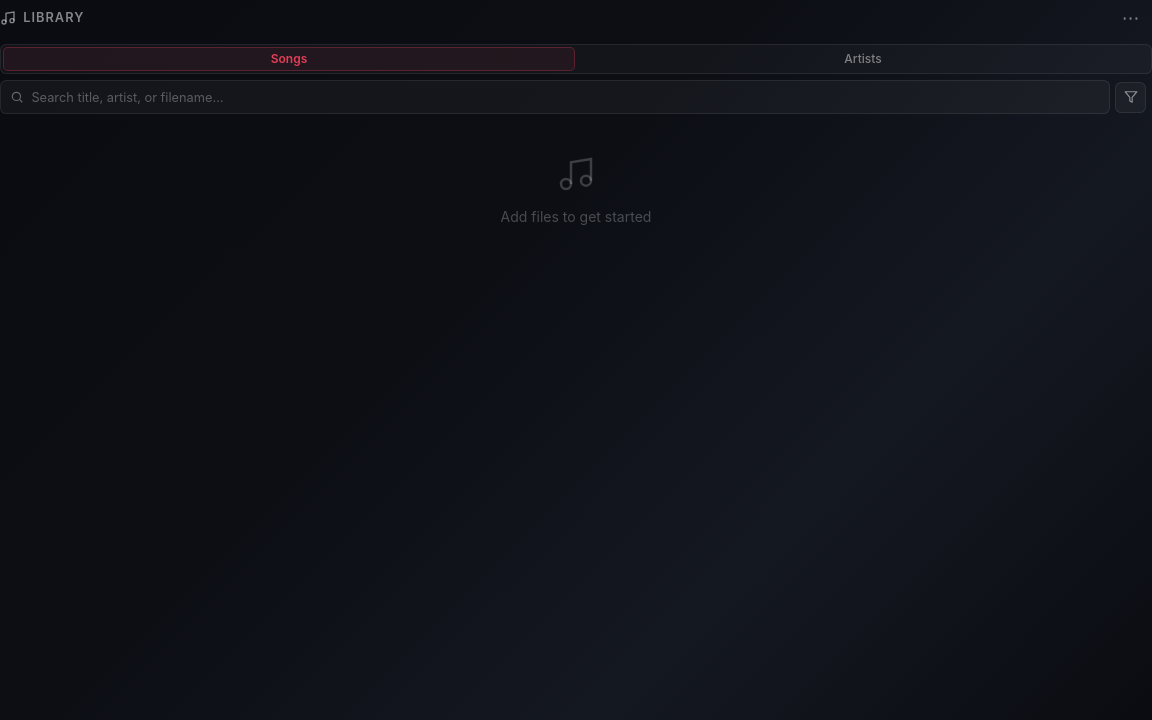
Test: the library ⋯ menu › Columns… swaps to the chooser and focuses its first changeable box
The width and height of the screenshot is (1152, 720).
Click the button with class "lib-menu__btn": (1131, 18) left=1116, top=3, right=1146, bottom=33
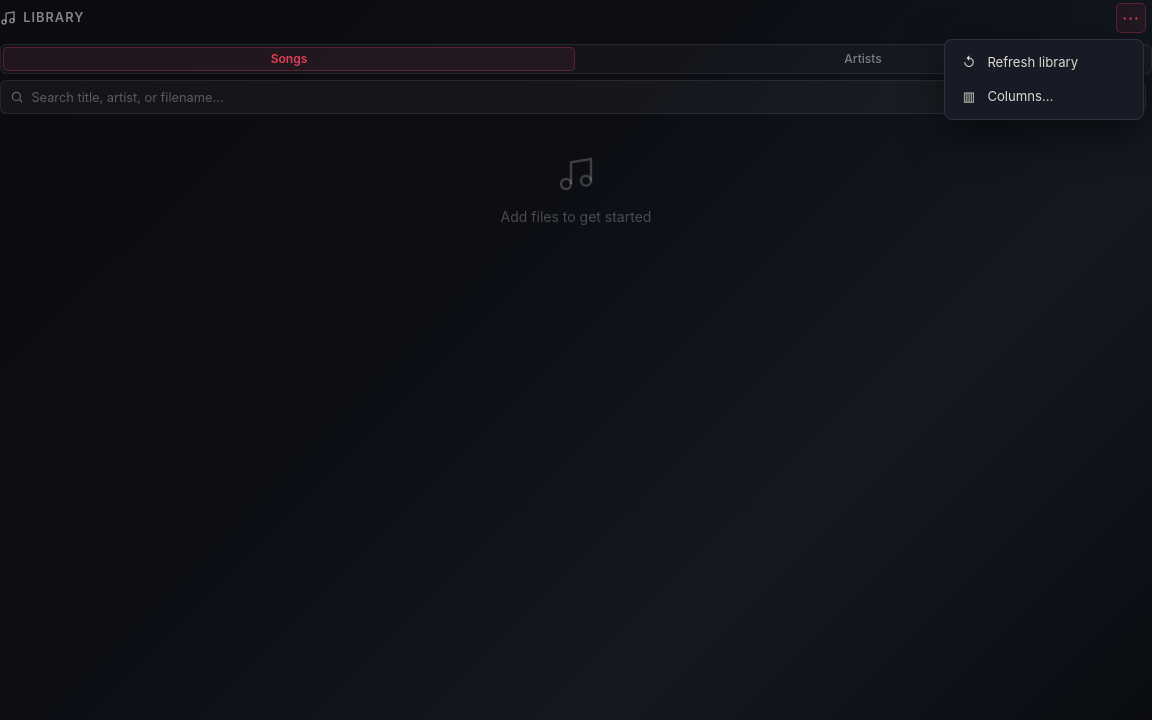
Click the menu item with class "lib-menu__columns": (1044, 97) left=951, top=80, right=1137, bottom=114
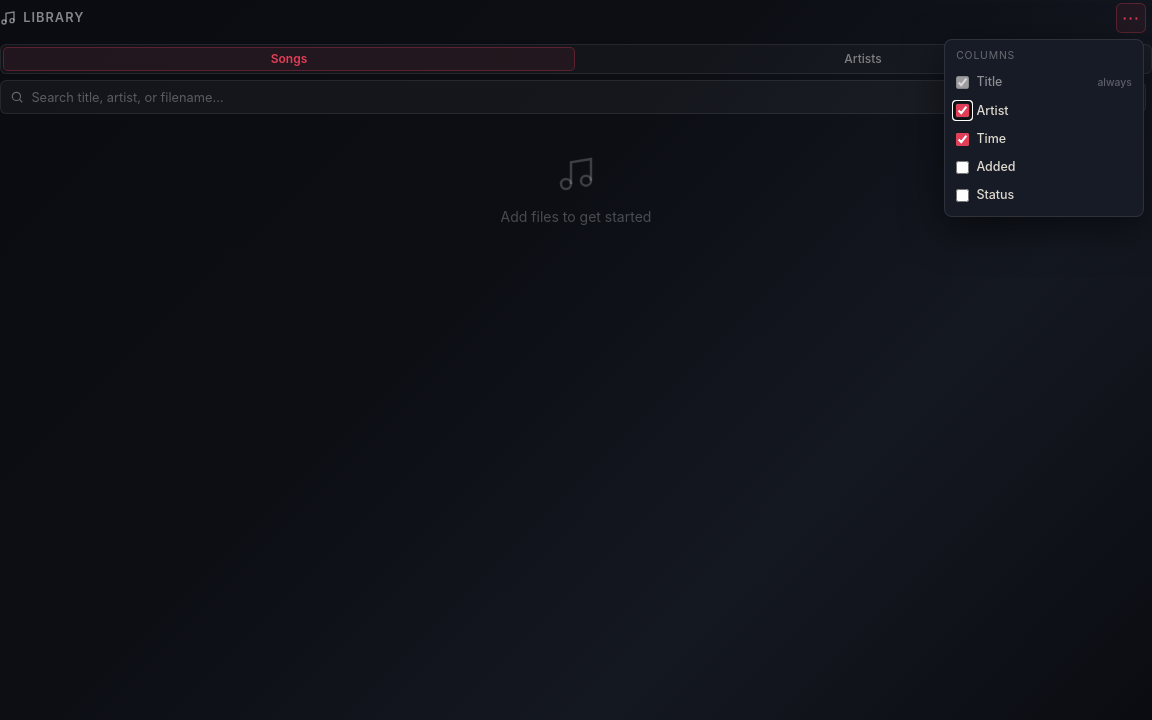
Result: the checkbox labelled "Artist" is shown at left=956, top=104, right=969, bottom=117
